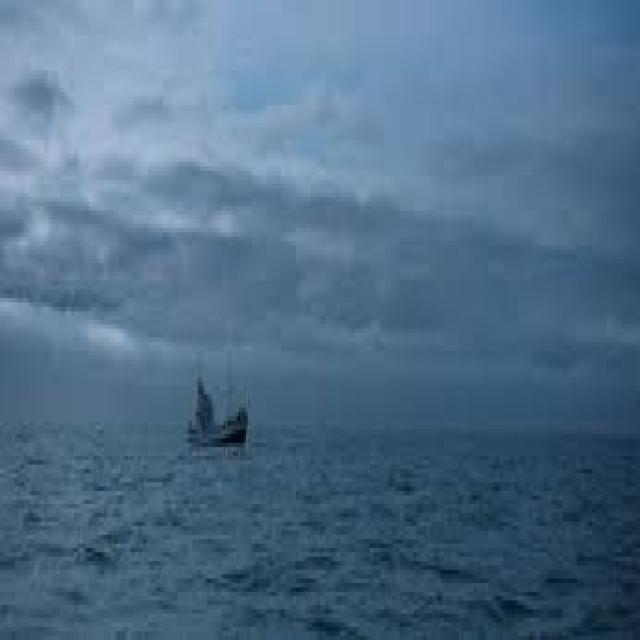fishing boat: (184, 358, 254, 443)
